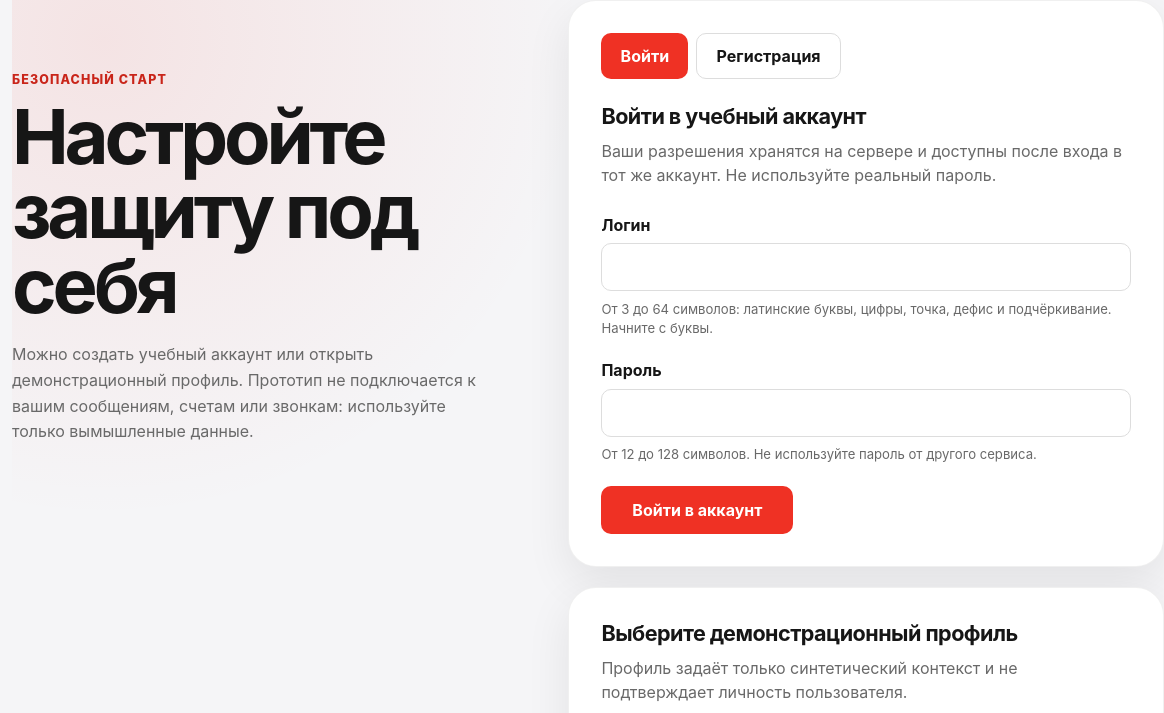
Test: onboarding › checks registration confirmation without sending a request
The width and height of the screenshot is (1164, 713).
Step 1. Click the button "Регистрация" → click(769, 56), box [696,33,841,79]
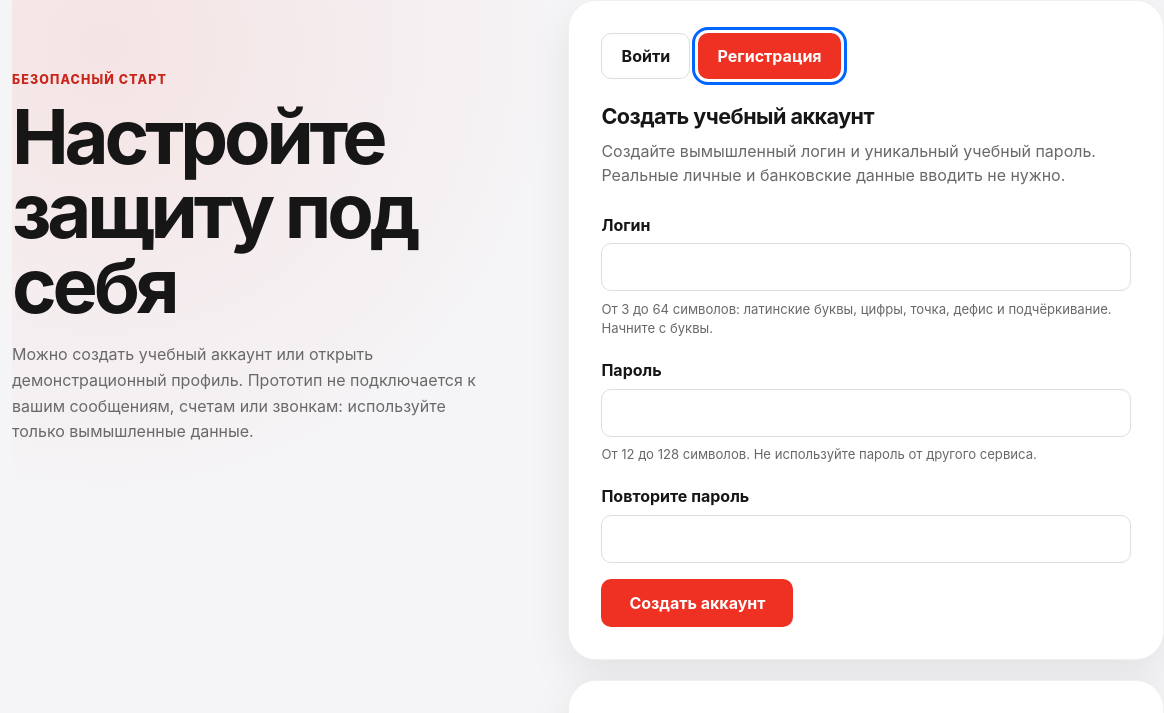
Step 2. Type "student_one" into the field labelled "Логин" → (866, 267), box [601,243,1131,291]
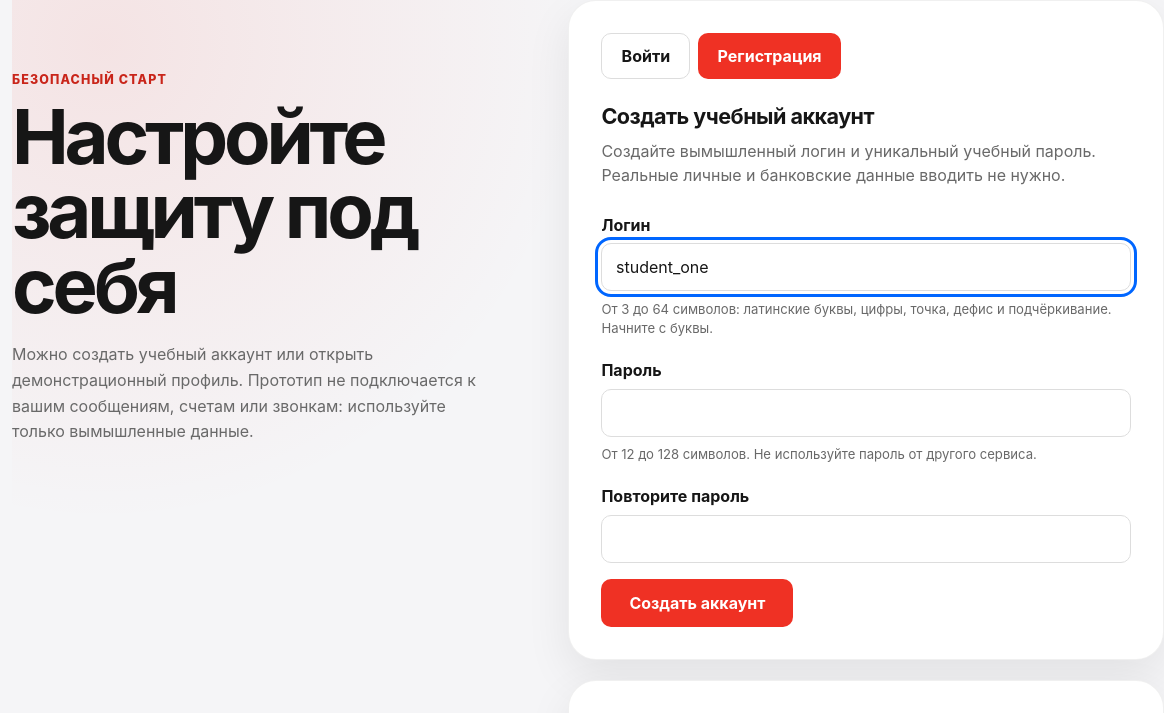
Step 3. Type "safe-test-pass-123" into the password field labelled "Пароль" → (866, 413), box [601,389,1131,437]
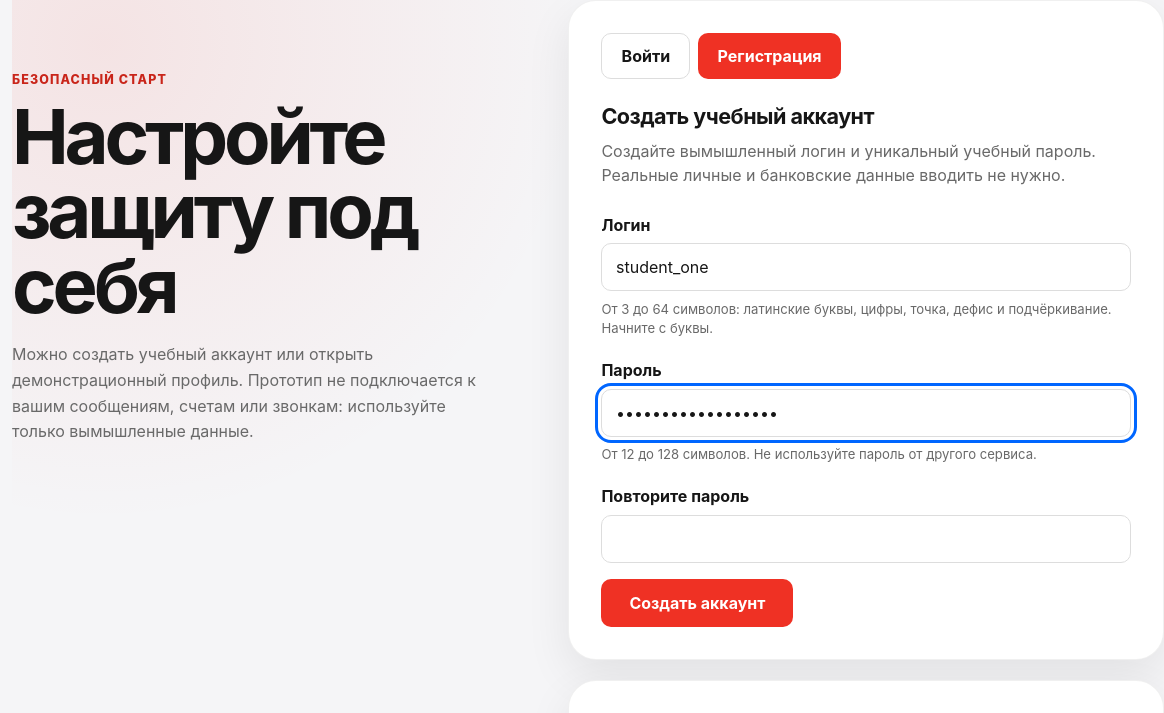
Step 4. Type "different-pass-123" into the password field labelled "Повторите пароль" → (866, 539), box [601,515,1131,563]
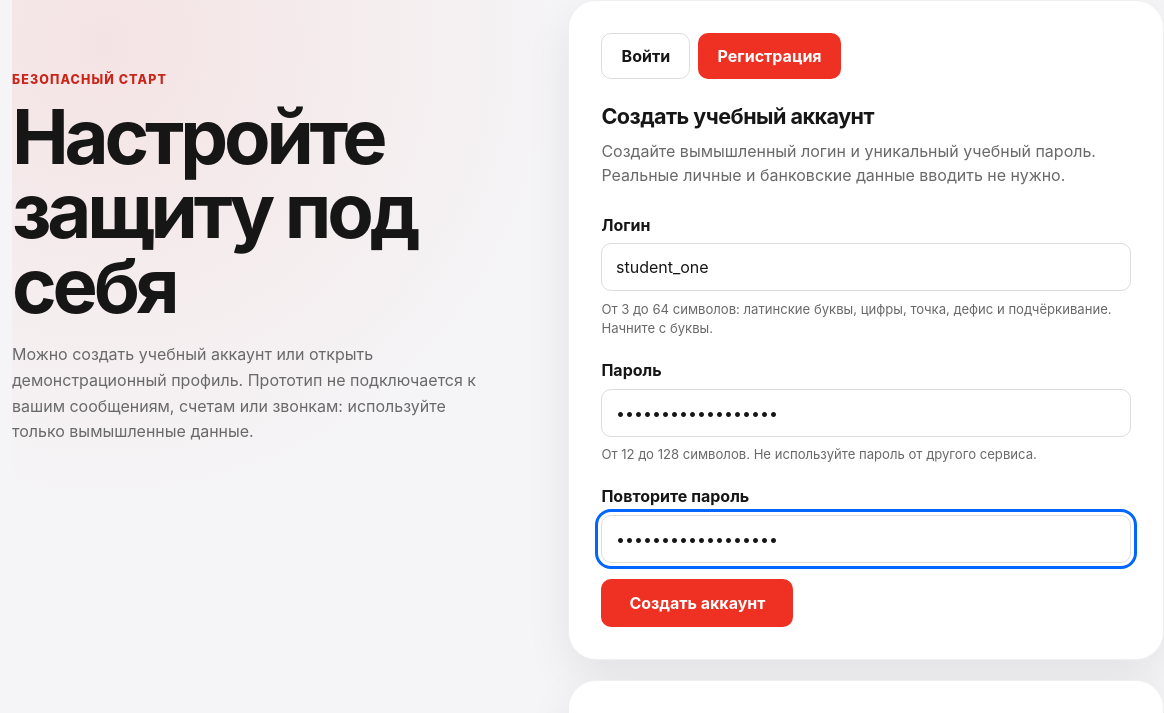
Step 5. Click the button "Создать аккаунт" → click(697, 603), box [601,579,793,627]
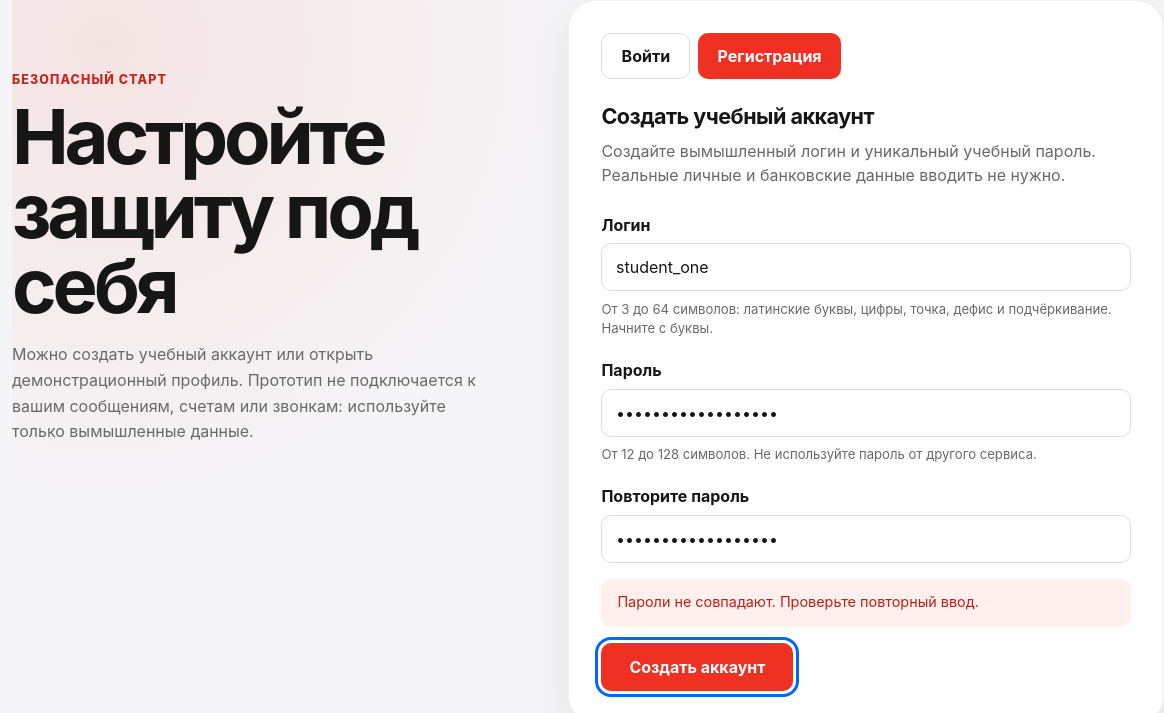
Expected: the message shows "Пароли не совпадают", [617,593,979,610]
